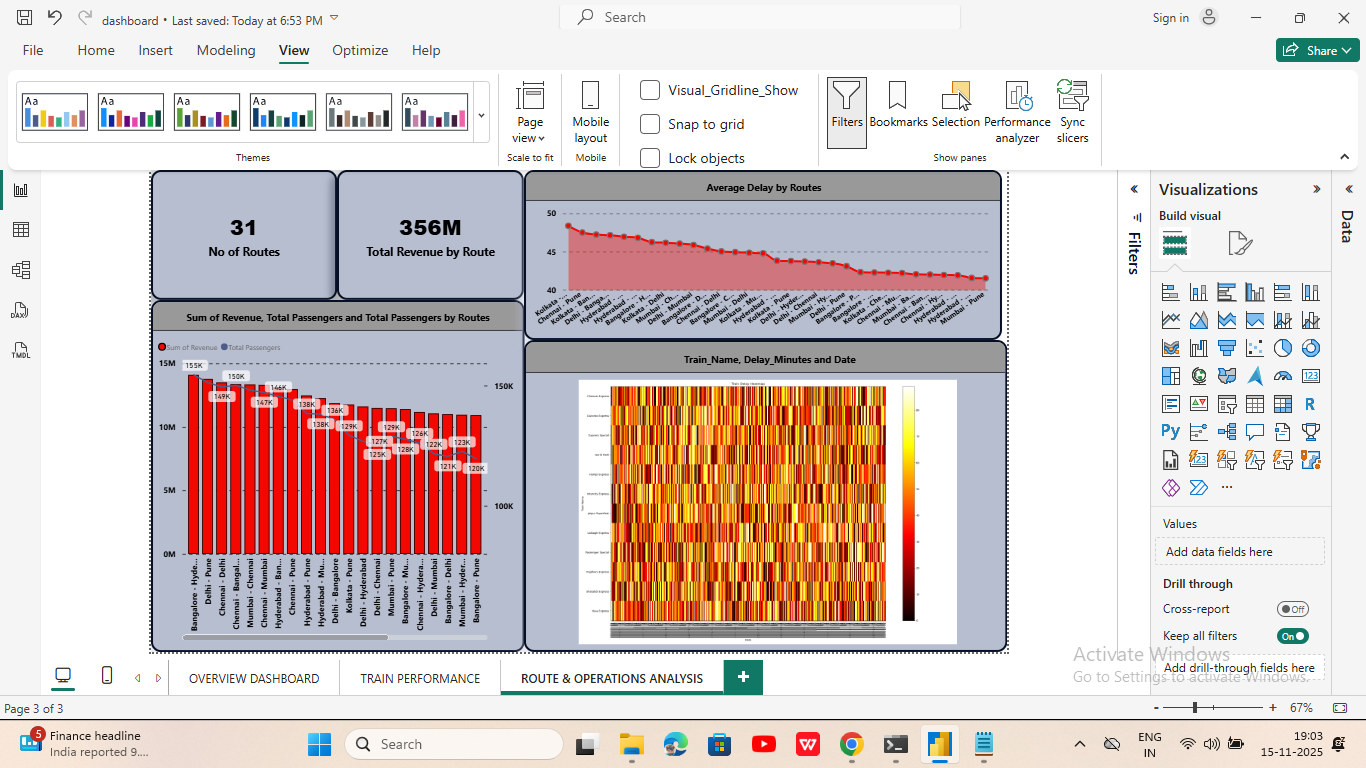

The dashboard page shown, as its layout file describes it:
{"tool":"powerbi","page":{"name":"ROUTE & OPERATIONS ANALYSIS","canvas":[1280,720],"ordinal":2},"visuals":[{"type":"card","fields":{"Values":["railway_data_2024.No of Routes"]},"box":[0,0,277.8,194.2],"z":0},{"type":"card","fields":{"Values":["railway_data_2024.Total Revenue by Route"]},"box":[277.8,0,279.3,194.2],"z":1},{"type":"lineClusteredColumnComboChart","fields":{"Category":["railway_data_2024.Routes"],"Y":["Sum(railway_data_2024.Revenue)"],"Y2":["railway_data_2024.Total Passengers"]},"box":[0,194,557.6,525.9],"z":2},{"type":"lineChart","fields":{"Category":["railway_data_2024.Routes"],"Y":["railway_data_2024.Average Delay"]},"box":[557.6,0,713.8,253.8],"z":4},{"type":"pythonVisual","fields":{"Values":["railway_data_2024.Train_Name","railway_data_2024.Delay_Minutes","Calendar.Date"]},"box":[557.6,253.8,722.4,466.1],"z":5}]}

Visuals, with their boxes on the page's 1280x720 design canvas (x1, y1, x2, y2). These are canvas units, not pixel positions in the 1366x768 screenshot, which may show the page scaled, cropped or inside an application window:
card - railway_data_2024.No of Routes: <box>0,0,278,194</box>
card - railway_data_2024.Total Revenue by Route: <box>278,0,557,194</box>
lineClusteredColumnComboChart - railway_data_2024.Routes x Sum(railway_data_2024.Revenue): <box>0,194,558,720</box>
lineChart - railway_data_2024.Routes x railway_data_2024.Average Delay: <box>558,0,1271,254</box>
pythonVisual - railway_data_2024.Train_Name x railway_data_2024.Delay_Minutes: <box>558,254,1280,720</box>
